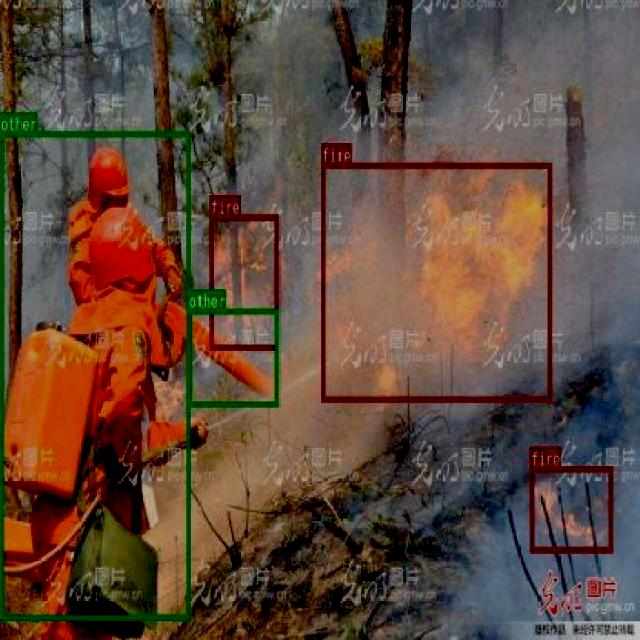fire: (320, 162, 551, 402), (210, 213, 278, 349), (530, 466, 612, 552)
